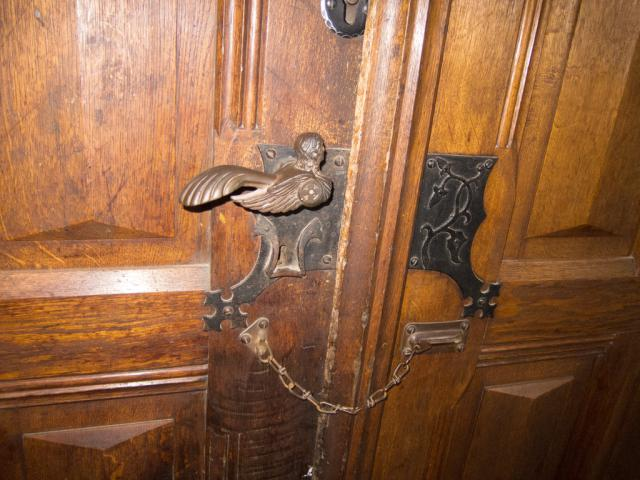Door-handle: (178, 130, 332, 212)
